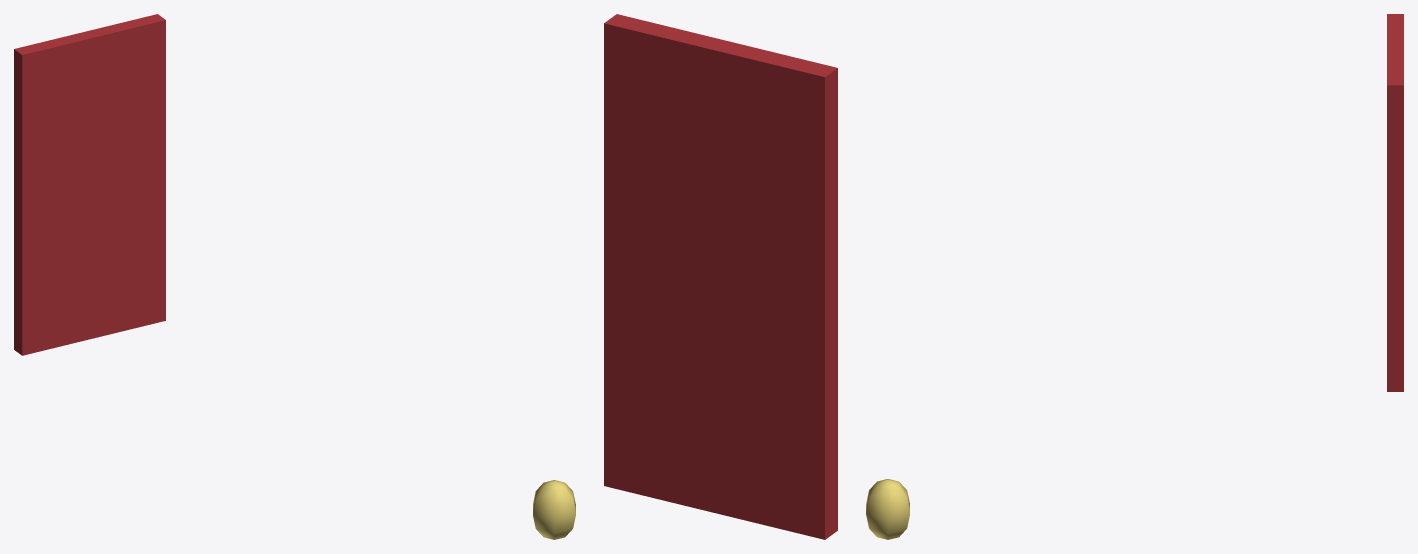
Rendered from sm_Lightbulb.fbx.
The picture shows the model from 3 angles, left to right: view 1: azimuth 30°, elevation 25°; view 2: azimuth 150°, elevation 25°; view 3: azimuth 270°, elevation 25°; orthographic projection. The views are drawn at different scales.
Parts seen in each view (by area): view 1: SM_Door, sm_Lightbulb; view 2: SM_Door; view 3: SM_Door, sm_Lightbulb.
Boxes of the visible parts, box(x1,y1,x2,y2) form: SM_Door: box(14, 14, 165, 355); sm_Lightbulb: box(533, 480, 575, 539); SM_Door: box(604, 14, 837, 539); SM_Door: box(1387, 14, 1403, 391); sm_Lightbulb: box(866, 479, 909, 539).
Size of the model in its own units: 2.15 by 2.49 by 3.18.
